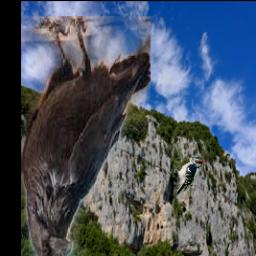Crow: (22, 17, 151, 256)
Woodpecker: (174, 156, 202, 196)
